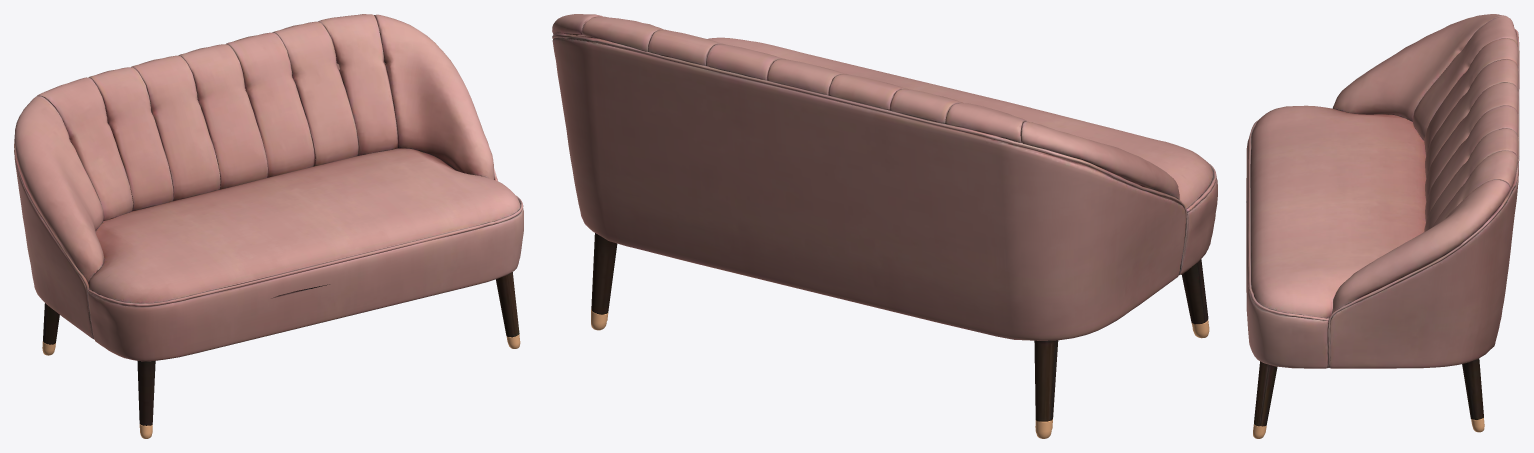
Rendered from sofa-transformed.glb.
3 views of the same model, side by side, from view 1: azimuth 30°, elevation 25°; view 2: azimuth 150°, elevation 25°; view 3: azimuth 270°, elevation 25° (orthographic). The views are drawn at different scales.
Parts seen in each view (by area): view 1: Margot_2_Seater_Sofa__Velvet_0, Margot_2_Seater_Sofa_Wood_0; view 2: Margot_2_Seater_Sofa__Velvet_0, Margot_2_Seater_Sofa_Wood_0, Margot_2_Seater_Sofa_Gold_0; view 3: Margot_2_Seater_Sofa__Velvet_0, Margot_2_Seater_Sofa_Wood_0, Margot_2_Seater_Sofa_Gold_0.
Part boxes in pixels (x1,y1,x2,y2): Margot_2_Seater_Sofa__Velvet_0: (14, 14, 523, 361); Margot_2_Seater_Sofa_Wood_0: (43, 272, 519, 425); Margot_2_Seater_Sofa__Velvet_0: (552, 14, 1217, 340); Margot_2_Seater_Sofa_Wood_0: (591, 233, 1208, 421); Margot_2_Seater_Sofa_Gold_0: (591, 309, 1209, 438); Margot_2_Seater_Sofa__Velvet_0: (1246, 14, 1519, 368); Margot_2_Seater_Sofa_Wood_0: (1254, 358, 1483, 426); Margot_2_Seater_Sofa_Gold_0: (1253, 418, 1484, 438).
Size of what is drawn, in the model's own units: 128 by 71.66 by 69.93.
Materials: 3 (2 with a texture image).
